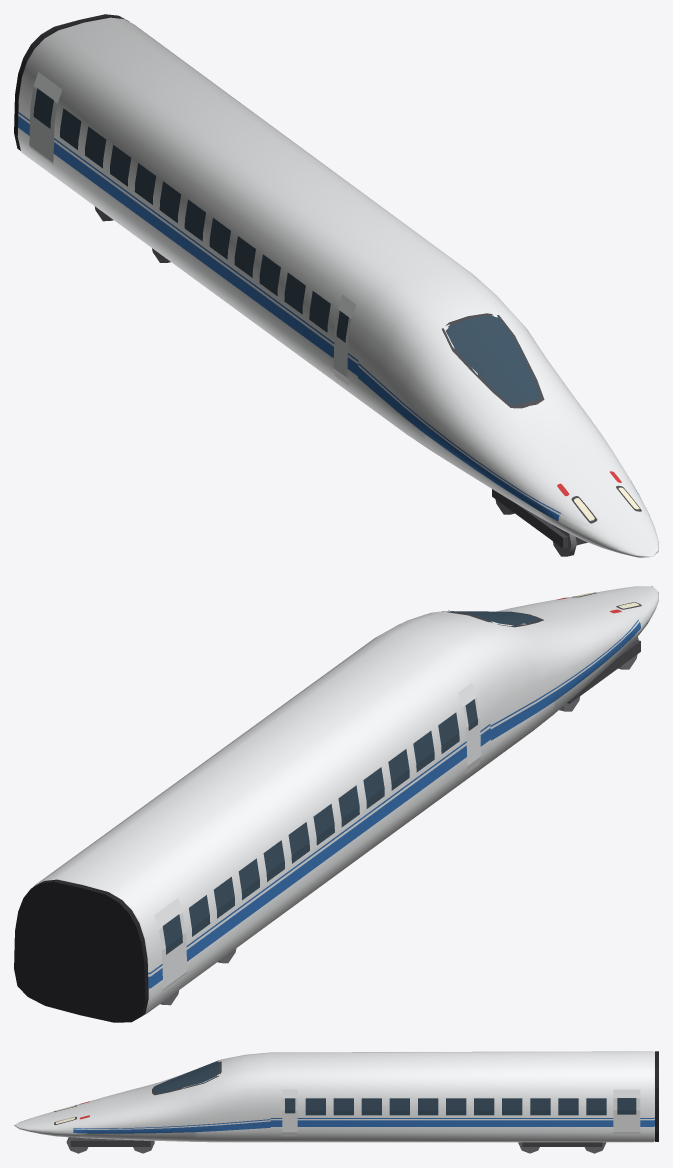
3 views of the same model, one above another, from view 1: azimuth 30°, elevation 25°; view 2: azimuth 150°, elevation 25°; view 3: azimuth 270°, elevation 25° (orthographic). The views are drawn at different scales.
Visible parts, largest first — view 1: 23_0; view 2: 23_0; view 3: 23_0.
Boxes of the visible parts, <box> form: 23_0: <box>14,14,658,557</box>; 23_0: <box>14,586,658,1022</box>; 23_0: <box>14,1051,658,1153</box>.
Bounding box in the file's own units: 3.37 × 3.66 × 25.
